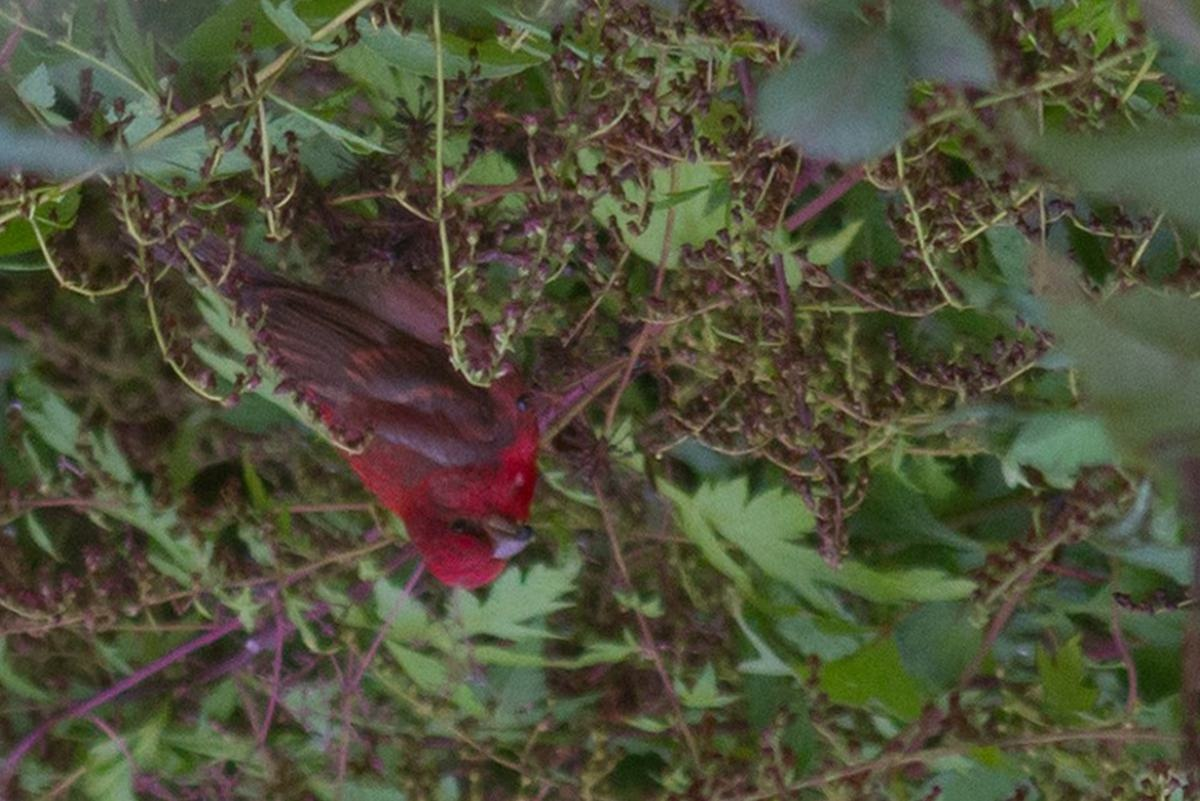rosefinch: (300, 184, 576, 571)
